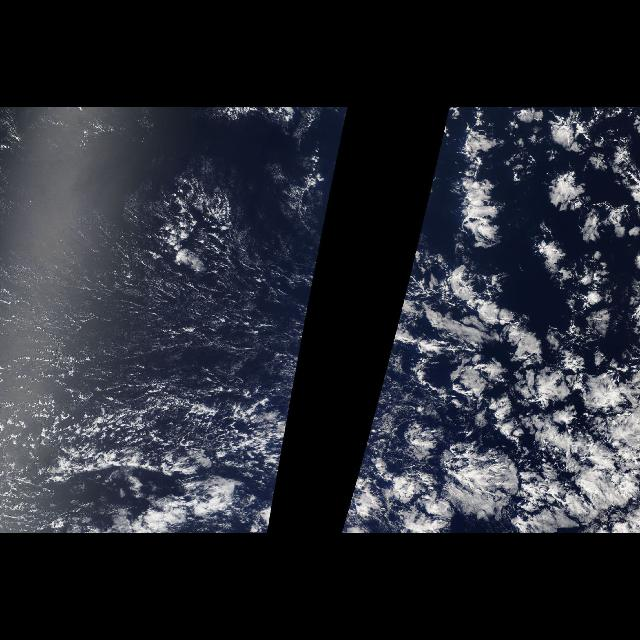Flower: (372, 107, 640, 533)
Gravel: (1, 366, 296, 532), (144, 167, 250, 296)
Sugar: (0, 115, 320, 422)
